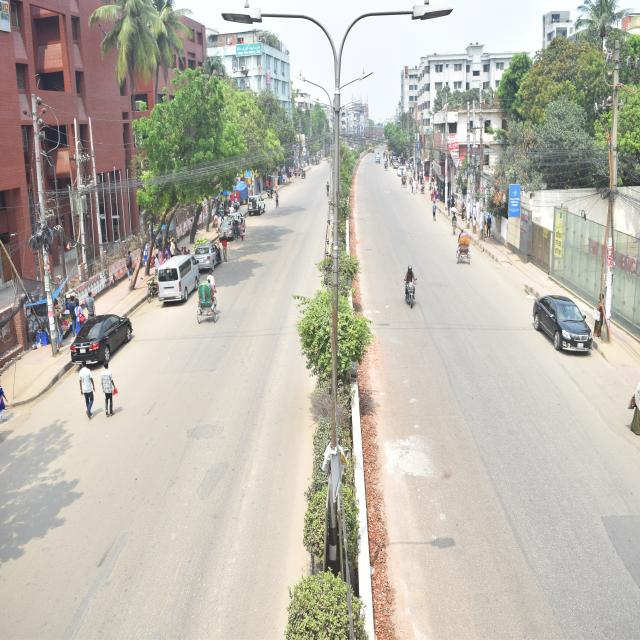car: (530, 287, 598, 359), (68, 309, 136, 370), (192, 240, 225, 272), (217, 212, 241, 245), (243, 194, 267, 215)
microbus: (155, 252, 202, 305)
motorbike: (402, 264, 419, 310)
